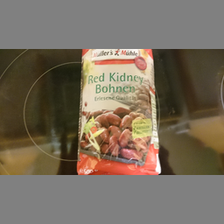beans: (82, 49, 158, 175)
